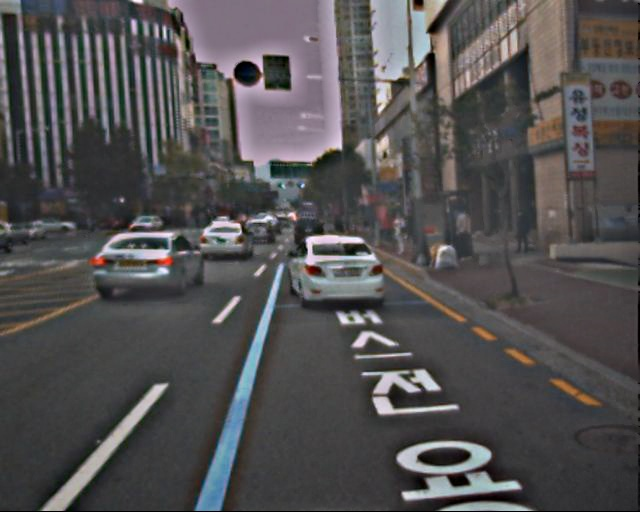person: (452, 202, 477, 266), (389, 207, 409, 259), (513, 208, 532, 254)
